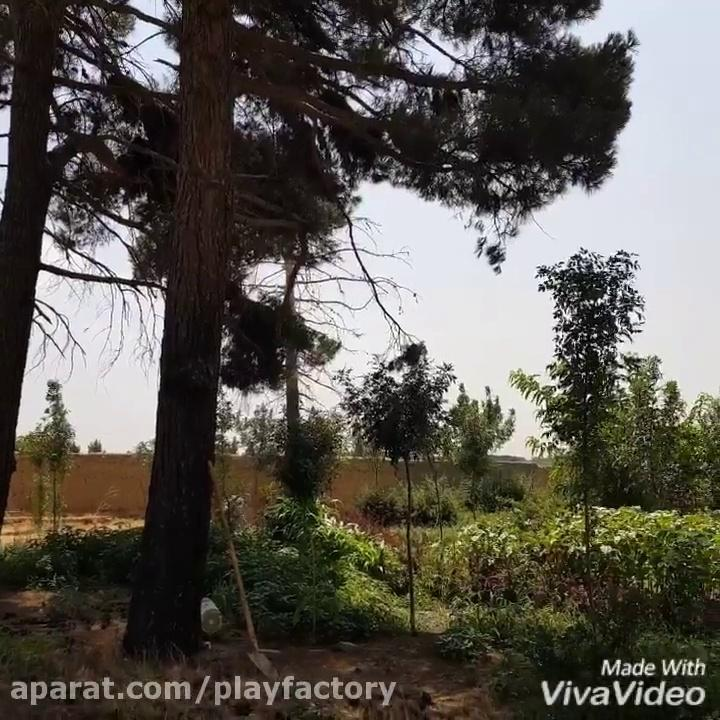drone: (349, 327, 366, 339)
